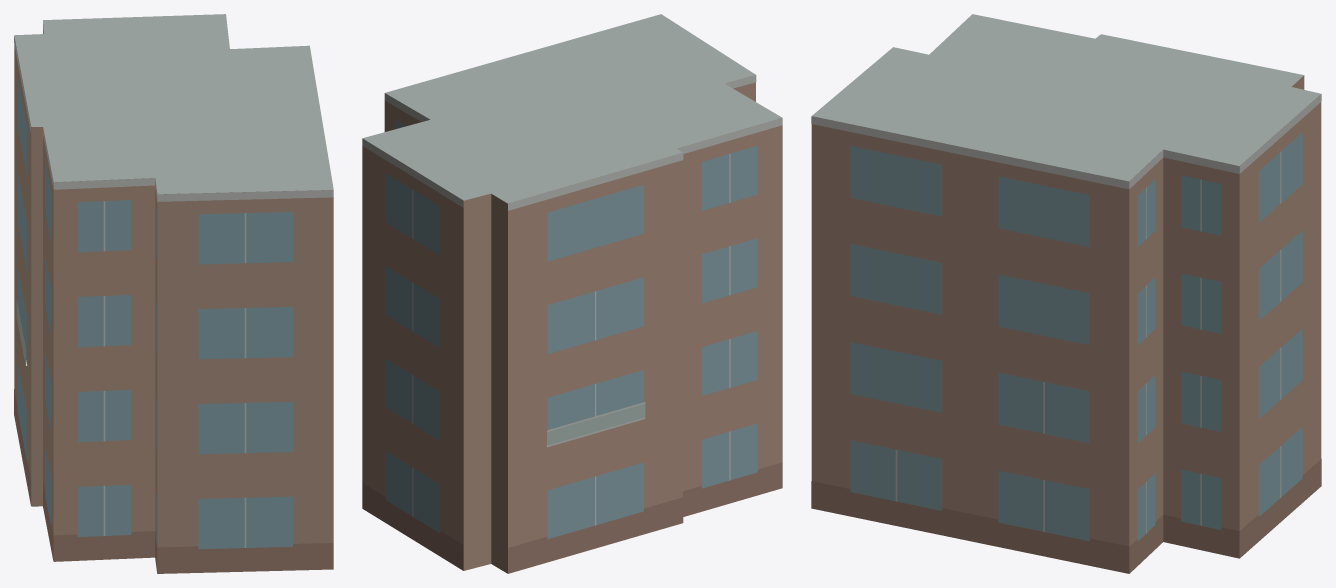
Rendered from survey-upis-32636639.glb.
The picture shows the model from 3 angles, left to right: view 1: azimuth 30°, elevation 25°; view 2: azimuth 150°, elevation 25°; view 3: azimuth 270°, elevation 25°; orthographic projection. The views are drawn at different scales.
Visible parts, largest first — view 1: survey-upis-32636639.tmp; view 2: survey-upis-32636639.tmp; view 3: survey-upis-32636639.tmp.
Part boxes in pixels (x1,y1,x2,y2): survey-upis-32636639.tmp: (14,14,333,573); survey-upis-32636639.tmp: (362,14,782,573); survey-upis-32636639.tmp: (811,14,1321,573).
Size of the model in its own units: 11.18 by 12.2 by 14.38.
